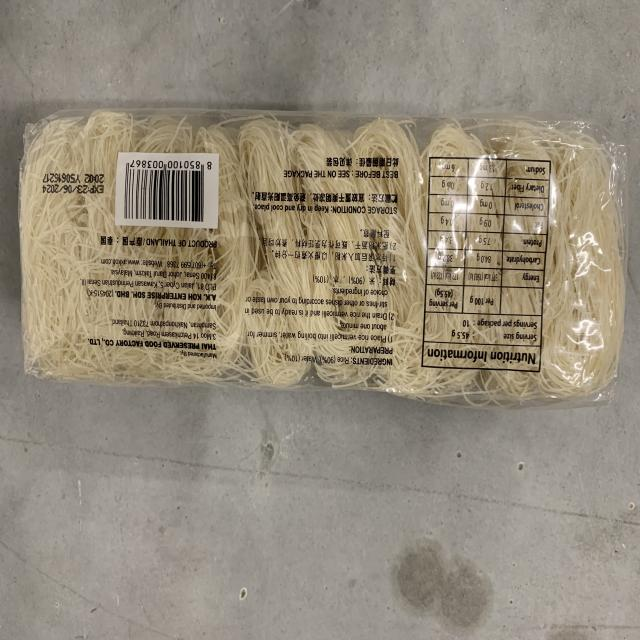object_name: (20, 117, 614, 400)
